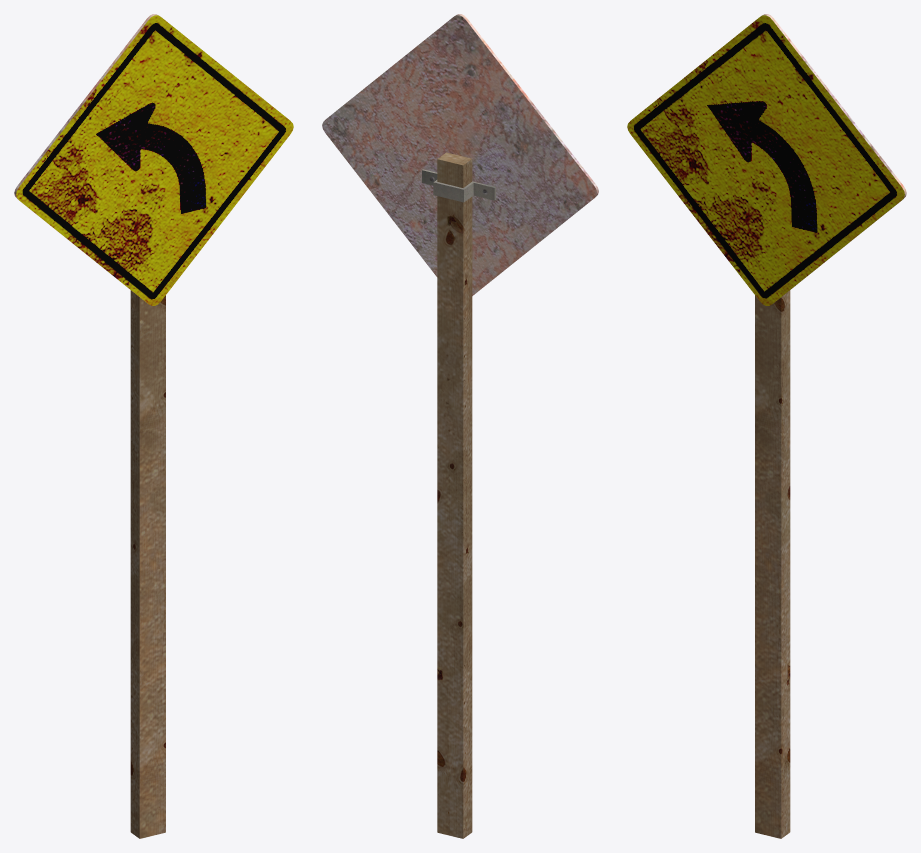
Rendered from Left_turn_arrow_sign.FBX.
The picture shows the model from 3 angles, left to right: view 1: azimuth 30°, elevation 25°; view 2: azimuth 150°, elevation 25°; view 3: azimuth 330°, elevation 25°; orthographic projection.
Visible parts, largest first — view 1: Left_turn_arrow_sign; view 2: Left_turn_arrow_sign; view 3: Left_turn_arrow_sign.
Boxes of the visible parts, x1,y1,x2,y2 form: Left_turn_arrow_sign: (14, 14, 293, 838); Left_turn_arrow_sign: (322, 14, 598, 838); Left_turn_arrow_sign: (627, 14, 906, 838).
Bounding box in the file's own units: 104 × 293 × 8.22.
